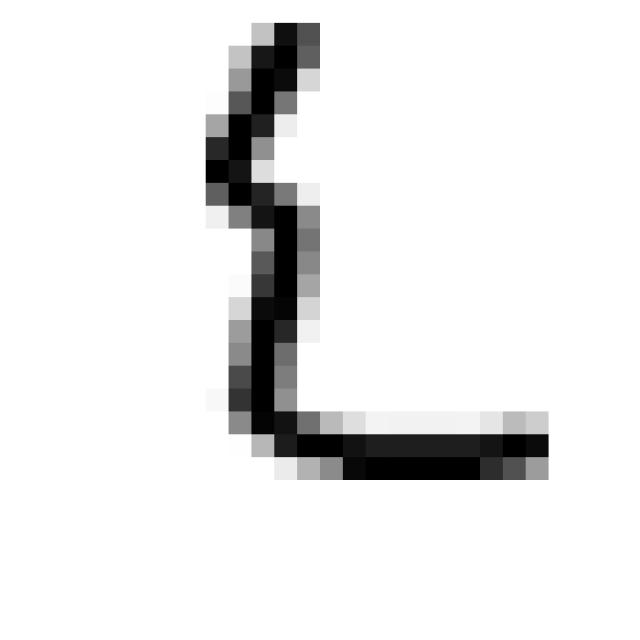4 -four-: (160, 0, 549, 480)
